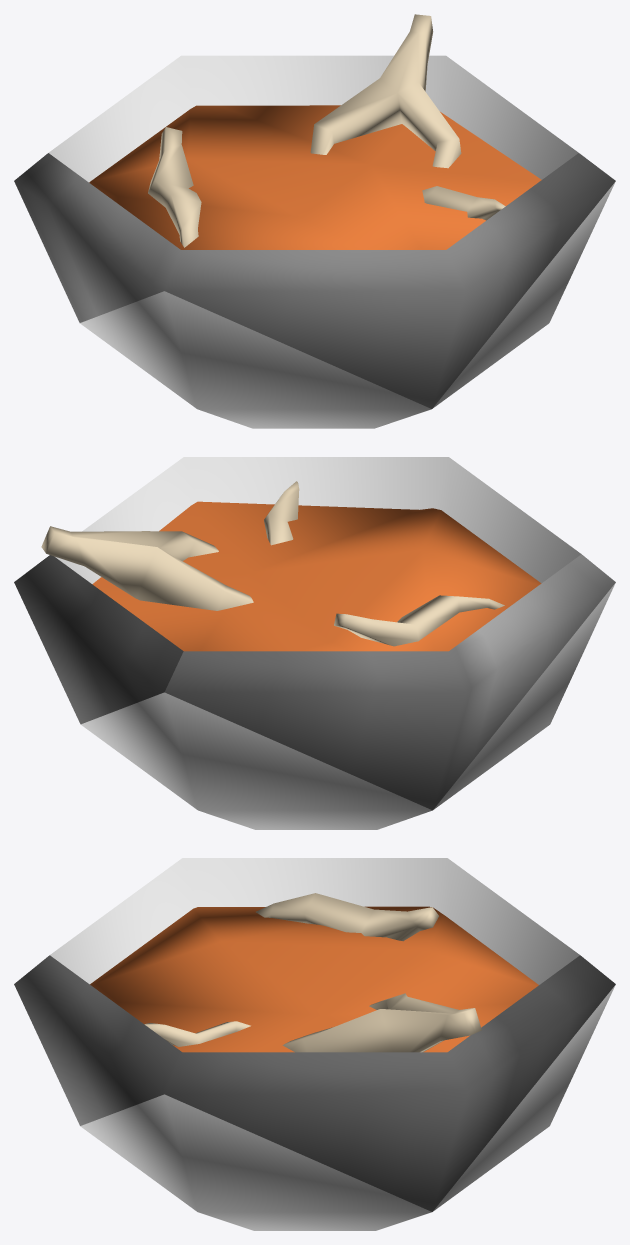
The model's file is boneBroth.glb.
3 renders of one model, top to bottom at view 1: azimuth 30°, elevation 25°; view 2: azimuth 150°, elevation 25°; view 3: azimuth 270°, elevation 25°, orthographic.
Parts seen in each view (by area): view 1: Bowl, BowlStuff, Cube, Cube.001, Cube.004; view 2: Bowl, BowlStuff, Cube, Cube.001, Cube.004; view 3: Bowl, BowlStuff, Cube, Cube.001, Cube.004.
Boxes of the visible parts, x1=… form: Bowl: x1=14, y1=55, x2=615, y2=428; BowlStuff: x1=89, y1=105, x2=541, y2=249; Cube: x1=310, y1=14, x2=461, y2=168; Cube.001: x1=148, y1=127, x2=201, y2=247; Cube.004: x1=422, y1=186, x2=505, y2=220; Bowl: x1=14, y1=457, x2=615, y2=829; BowlStuff: x1=92, y1=501, x2=541, y2=651; Cube: x1=41, y1=526, x2=253, y2=610; Cube.001: x1=334, y1=595, x2=504, y2=646; Cube.004: x1=264, y1=481, x2=299, y2=545; Bowl: x1=14, y1=858, x2=615, y2=1230; BowlStuff: x1=90, y1=906, x2=538, y2=1052; Cube: x1=282, y1=993, x2=481, y2=1052; Cube.001: x1=256, y1=893, x2=438, y2=941; Cube.004: x1=144, y1=1021, x2=250, y2=1046.
Bounding box in the file's own units: 0.2467 × 0.1393 × 0.2849.
5 materials, 1 textured.
